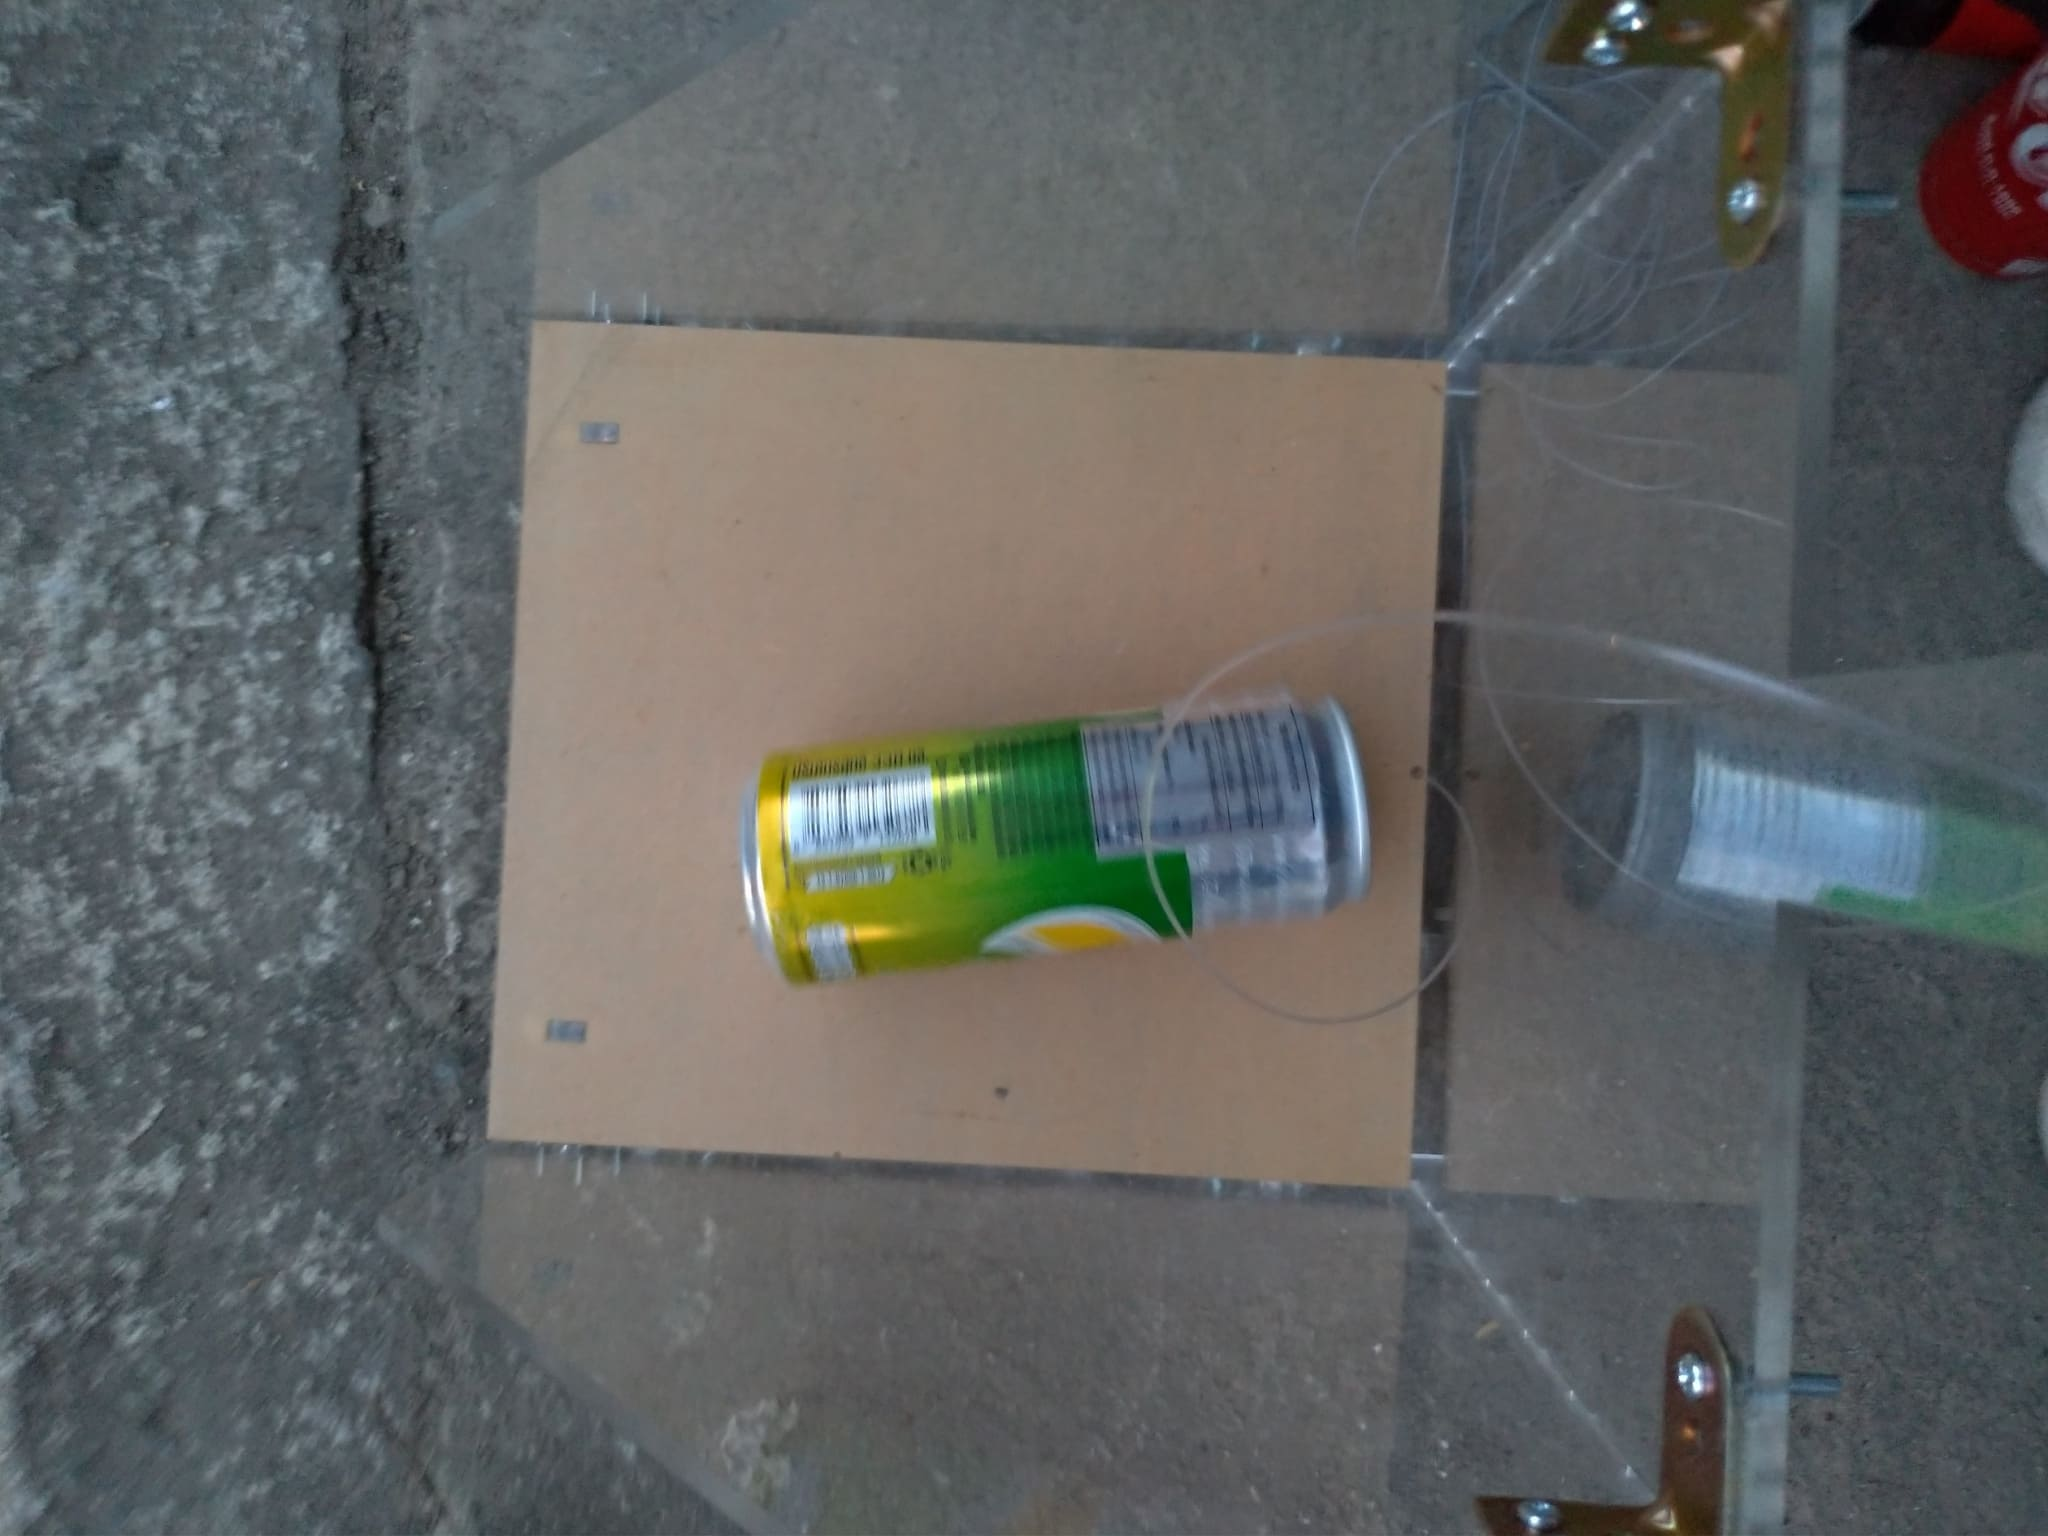AlCan: (735, 682, 1382, 991), (1922, 61, 2048, 294)
